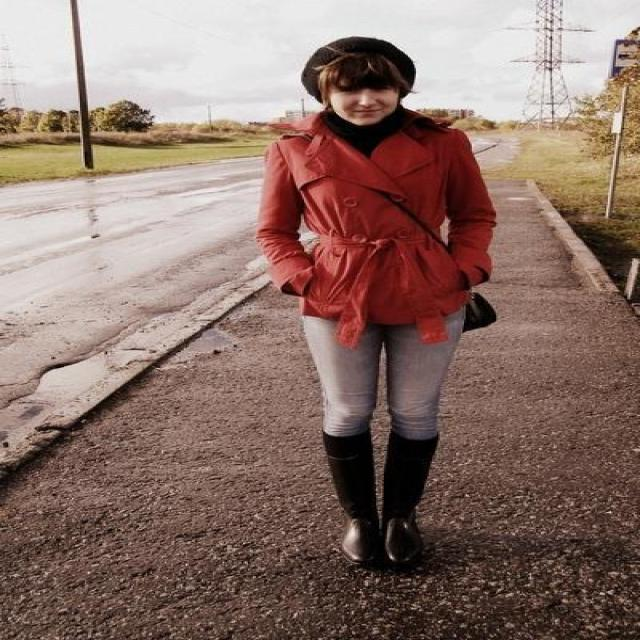bag: (462, 294, 496, 332)
hat: (302, 36, 413, 76)
jacket: (258, 118, 496, 344)
pants: (302, 320, 466, 439)
shoe: (323, 426, 440, 575)
